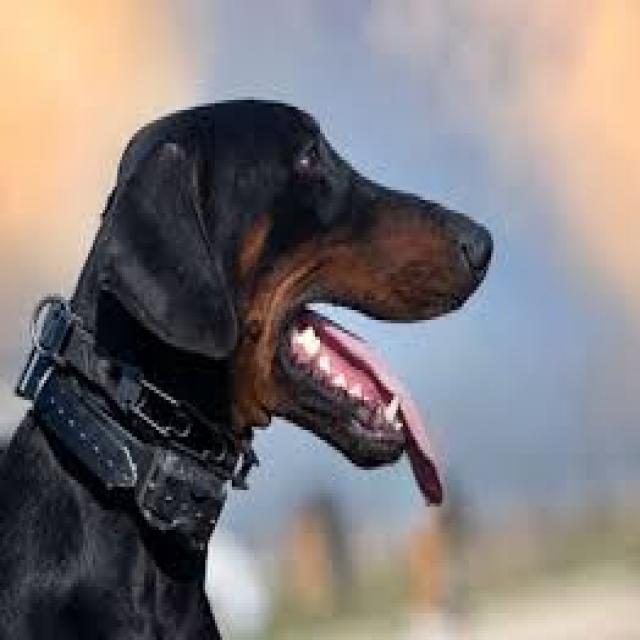Dog: (0, 85, 497, 640)
